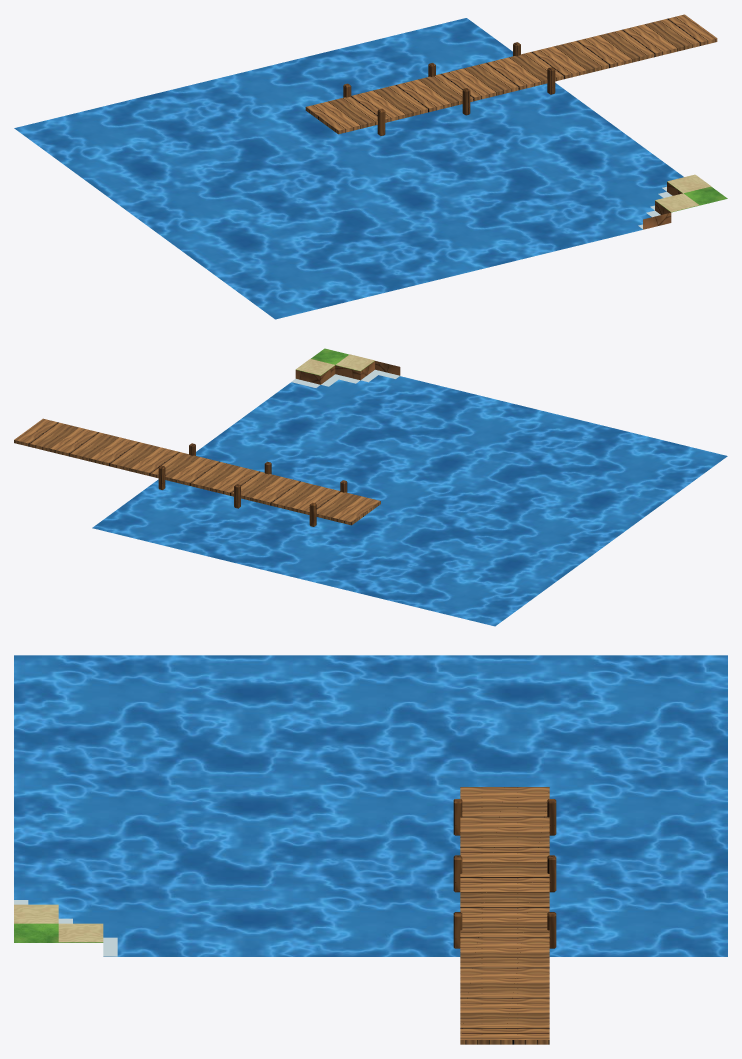
The model's file is chunk_4_15.glb.
The picture shows the model from 3 angles, top to bottom: view 1: azimuth 30°, elevation 25°; view 2: azimuth 150°, elevation 25°; view 3: azimuth 270°, elevation 25°; orthographic projection. The views are drawn at different scales.
Parts seen in each view (by area): view 1: chunk_4_15; view 2: chunk_4_15; view 3: chunk_4_15.
Part boxes in pixels (bbox=[...]): chunk_4_15: bbox=[14, 14, 727, 319]; chunk_4_15: bbox=[14, 348, 727, 626]; chunk_4_15: bbox=[14, 655, 727, 1044].
Bounding box in the file's own units: 21.4 × 0.85 × 16.
7 materials, 6 textured.
